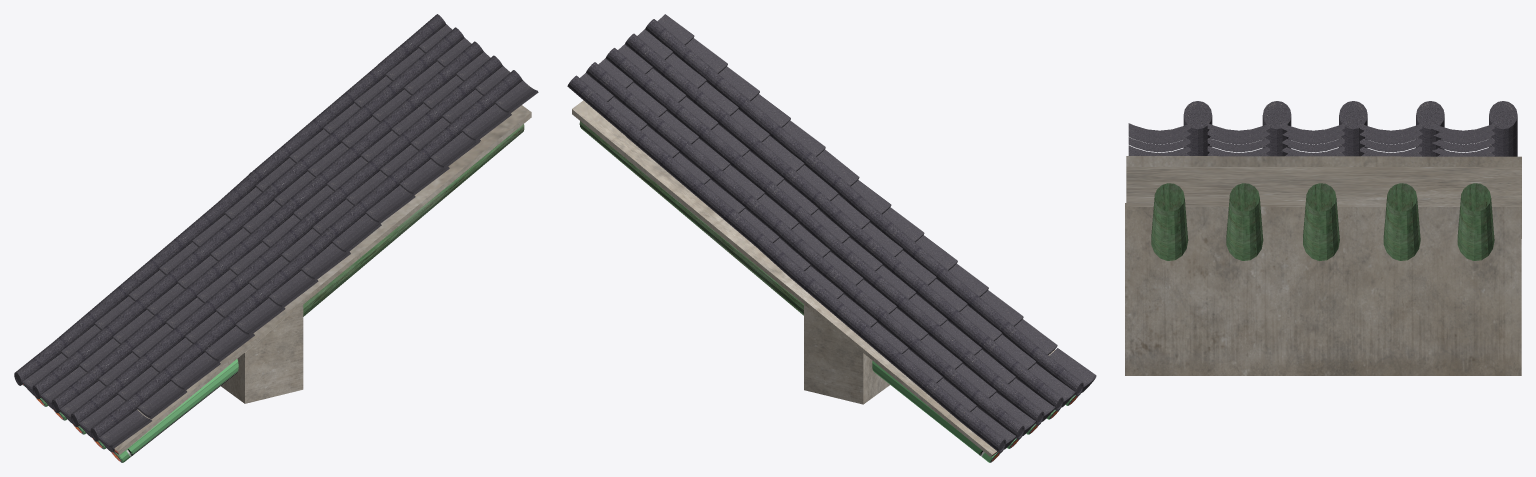
Rendered from SM_Roof_14.fbx.
3 renders of one model, left to right at view 1: azimuth 30°, elevation 25°; view 2: azimuth 150°, elevation 25°; view 3: azimuth 270°, elevation 25°, orthographic. The views are drawn at different scales.
Parts seen in each view (by area): view 1: SM_Roof_14; view 2: SM_Roof_14; view 3: SM_Roof_14.
Boxes of the visible parts, <box> form: SM_Roof_14: <box>14,14,538,462</box>; SM_Roof_14: <box>567,14,1096,462</box>; SM_Roof_14: <box>1125,101,1521,375</box>.
Size of the model in its own units: 527 by 211 by 337.
5 materials, 5 textured.
